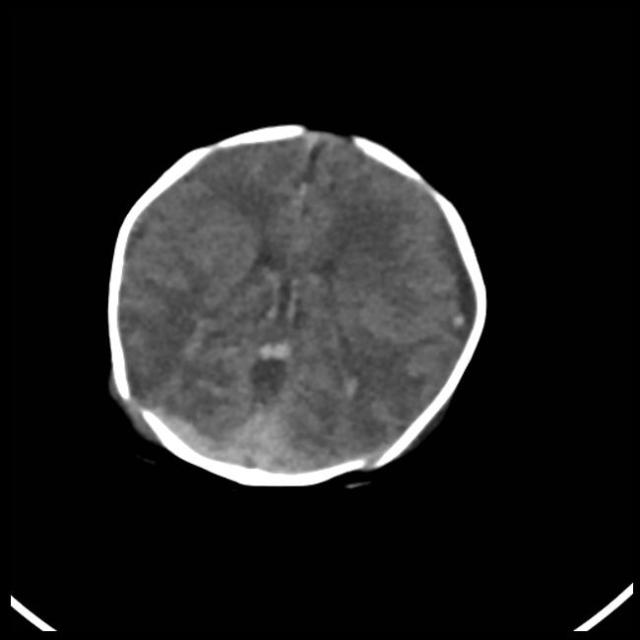lesion: (101, 118, 492, 492)
